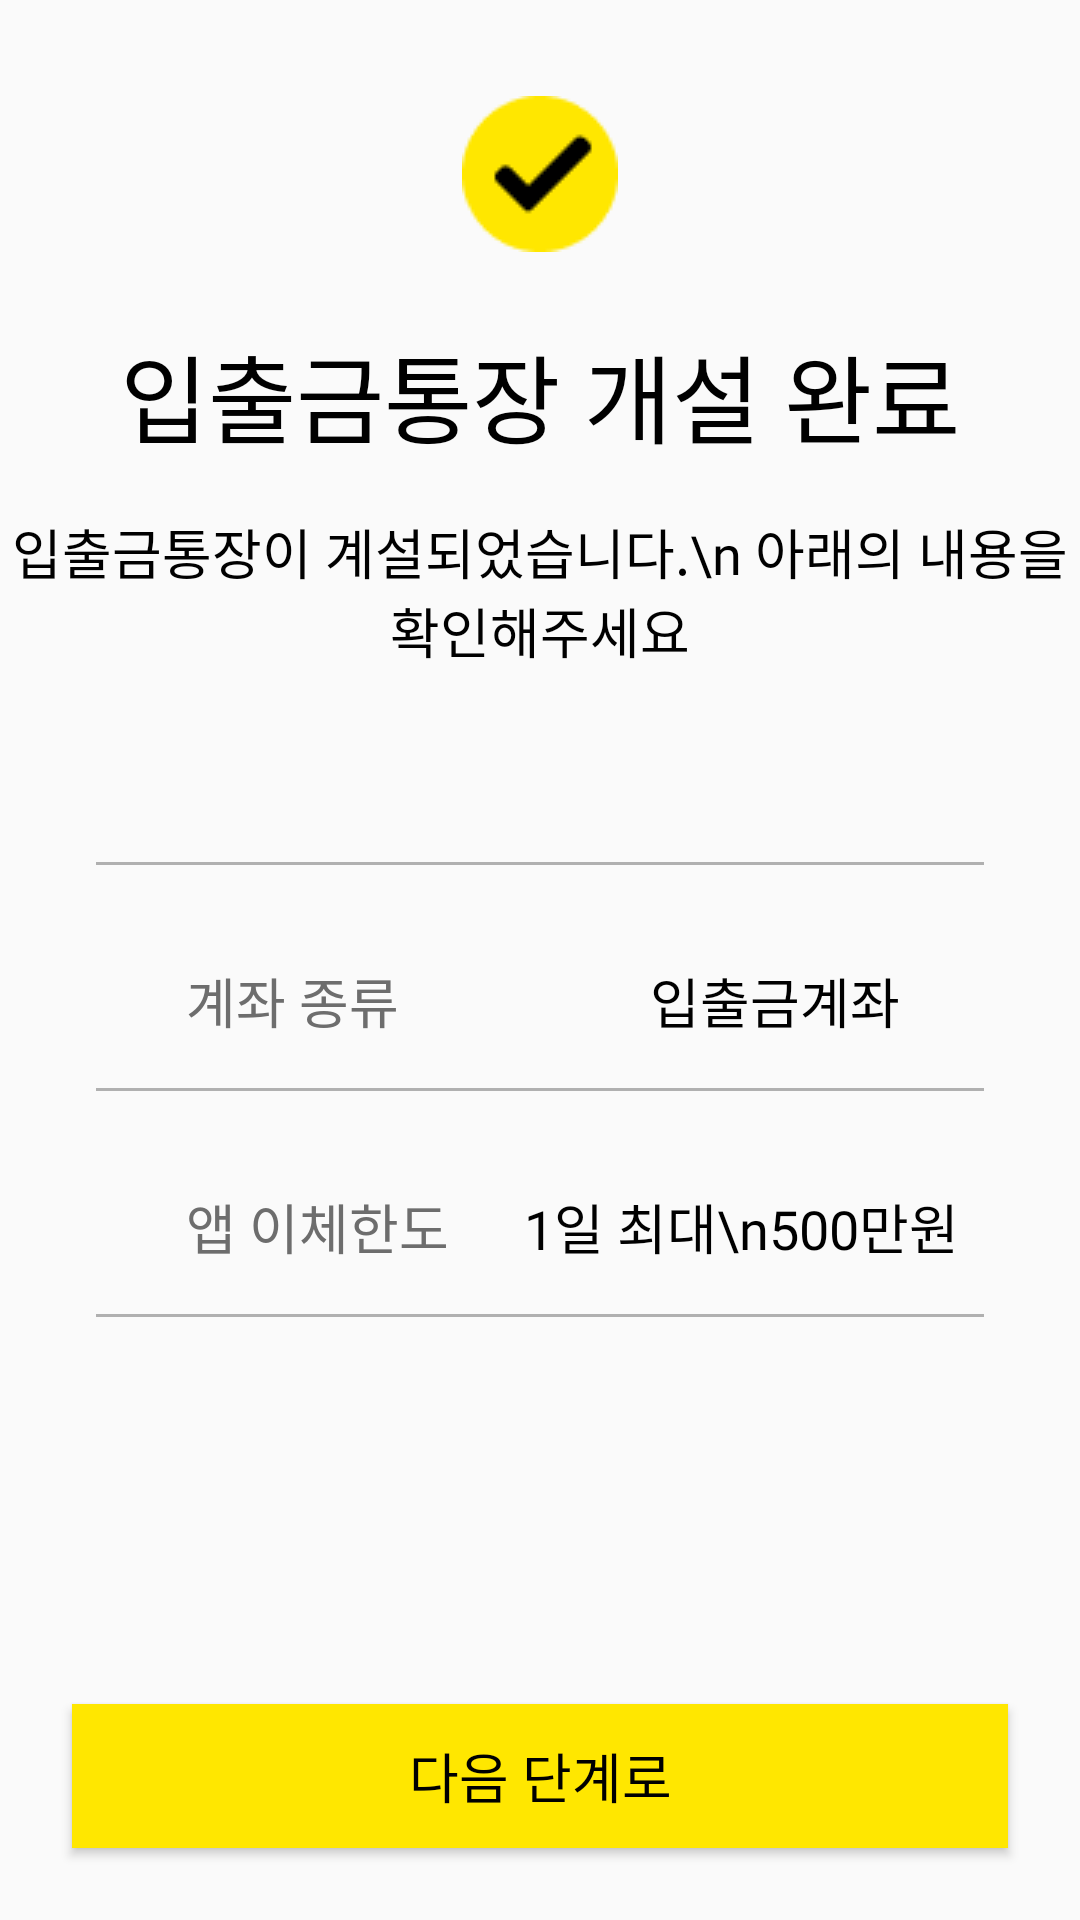

Named icons in this screenshot (1080px x 1920px) and their bounding boxes, box(x1, y1, x2, y2):
makesuccess: box(462, 96, 618, 252)
